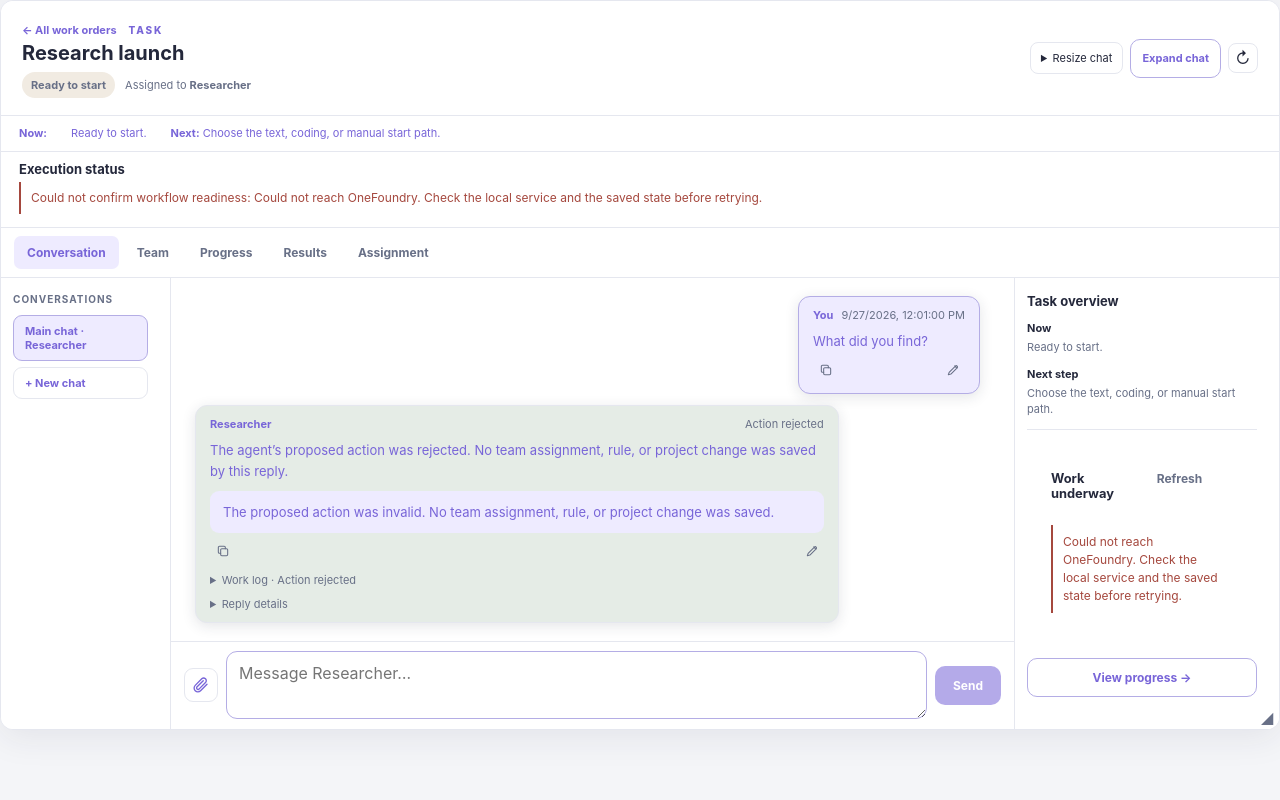
Scenario: shows failed action proposals while leaving ordinary answers uncluttered
Expected: the text "The proposed action was invalid" is shown, x1=223 y1=504 x2=774 y2=520
Click the button named "Refresh saved state": (1243, 58) x1=1228 y1=43 x2=1258 y2=73
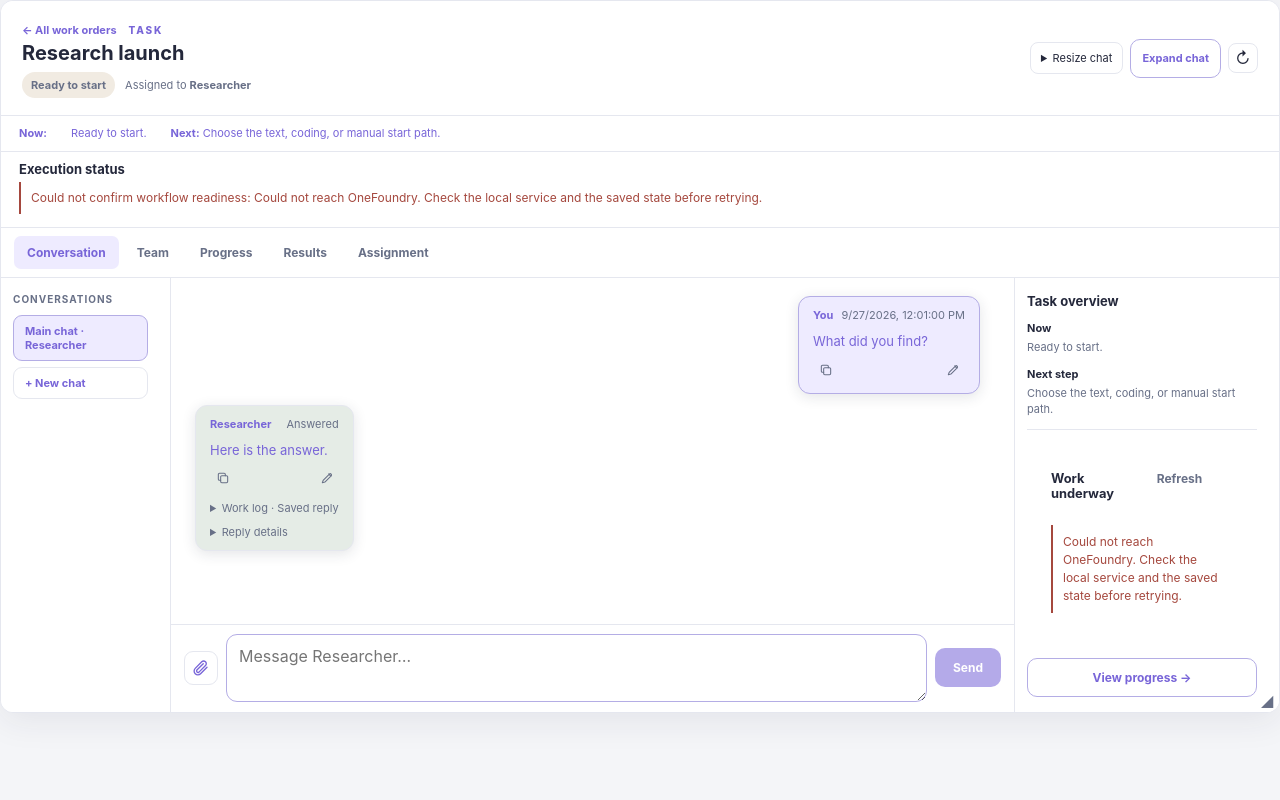
Now the text "Here is the answer." is shown, box x1=210 y1=440 x2=339 y2=461
Now the text "The proposed action was invalid" is gone
